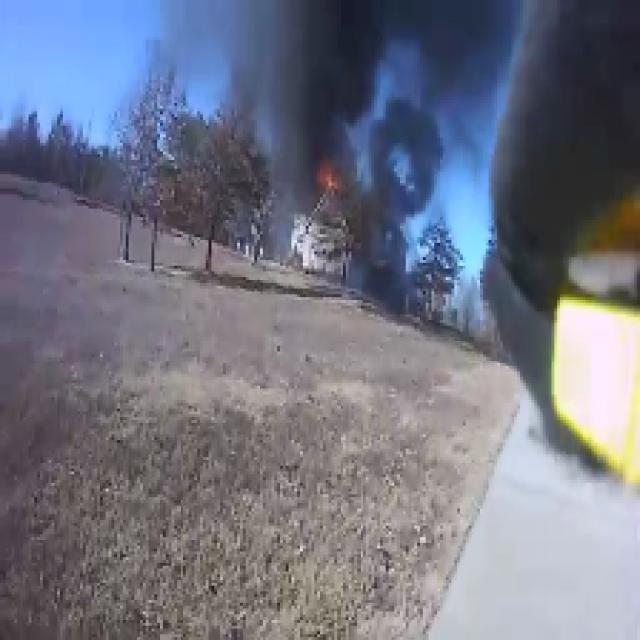Smoke: (271, 0, 437, 184), (448, 5, 504, 84)
